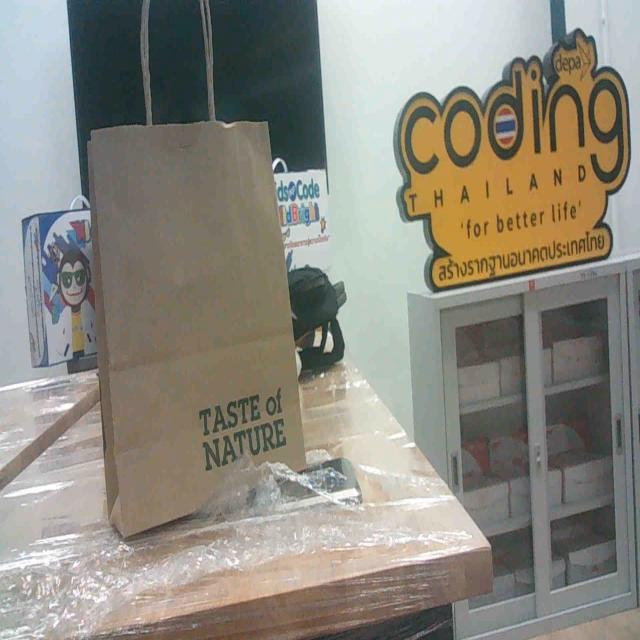bag: (72, 109, 324, 515)
